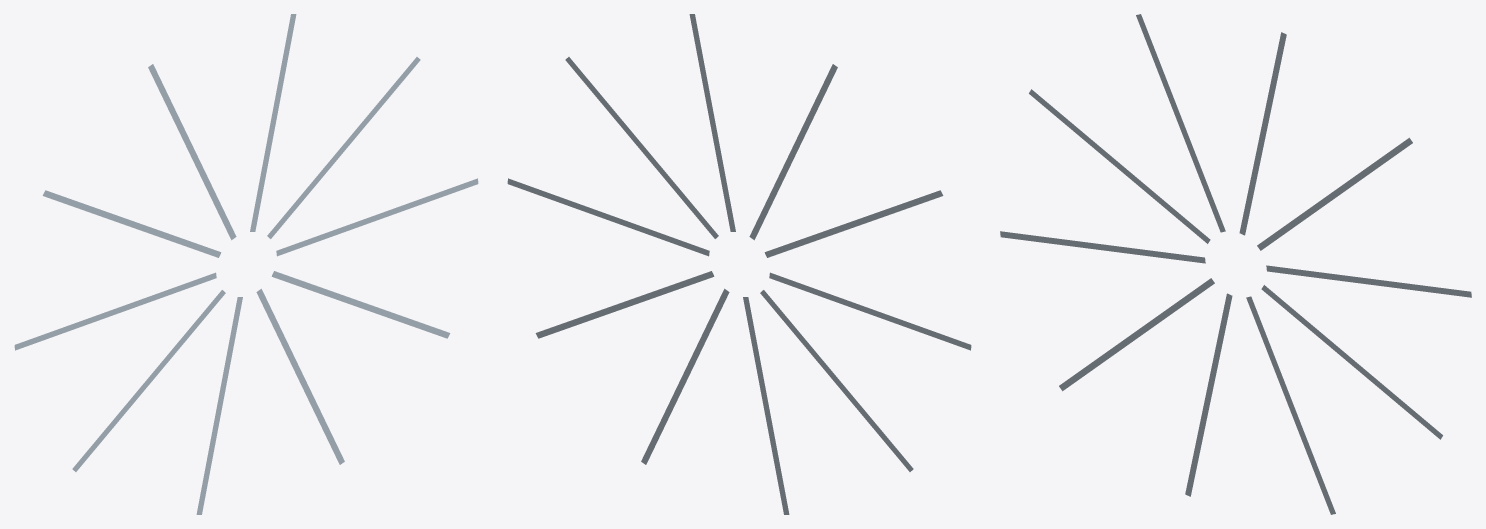
File: Eula_ShatteredLightfallSword_PhysicalRadialLight.fbx
3 renders of one model, left to right at view 1: azimuth 30°, elevation 25°; view 2: azimuth 150°, elevation 25°; view 3: azimuth 330°, elevation 25°, orthographic.
Visible parts, largest first — view 1: PART_PalePhysicalRadialLight_2, PART_PalePhysicalRadialLight_7, PART_PalePhysicalRadialLight_0, PART_PalePhysicalRadialLight_5, PART_PalePhysicalRadialLight_1, PART_PalePhysicalRadialLight_4, PART_PalePhysicalRadialLight_6, PART_PalePhysicalRadialLight_9, PART_PalePhysicalRadialLight_3, PART_PalePhysicalRadialLight_8; view 2: PART_PalePhysicalRadialLight_2, PART_PalePhysicalRadialLight_7, PART_PalePhysicalRadialLight_0, PART_PalePhysicalRadialLight_5, PART_PalePhysicalRadialLight_1, PART_PalePhysicalRadialLight_4, PART_PalePhysicalRadialLight_6, PART_PalePhysicalRadialLight_9, PART_PalePhysicalRadialLight_3, PART_PalePhysicalRadialLight_8; view 3: PART_PalePhysicalRadialLight_3, PART_PalePhysicalRadialLight_8, PART_PalePhysicalRadialLight_0, PART_PalePhysicalRadialLight_5, PART_PalePhysicalRadialLight_2, PART_PalePhysicalRadialLight_7, PART_PalePhysicalRadialLight_4, PART_PalePhysicalRadialLight_9, PART_PalePhysicalRadialLight_1, PART_PalePhysicalRadialLight_6.
Boxes of the visible parts, x1,y1,x2,y2 form: PART_PalePhysicalRadialLight_2: (250,14,296,231); PART_PalePhysicalRadialLight_7: (196,297,242,514); PART_PalePhysicalRadialLight_0: (276,178,478,256); PART_PalePhysicalRadialLight_5: (14,272,216,350); PART_PalePhysicalRadialLight_1: (267,57,420,238); PART_PalePhysicalRadialLight_4: (42,190,221,257); PART_PalePhysicalRadialLight_6: (72,290,225,471); PART_PalePhysicalRadialLight_9: (271,271,450,338); PART_PalePhysicalRadialLight_3: (148,64,236,240); PART_PalePhysicalRadialLight_8: (256,288,344,464); PART_PalePhysicalRadialLight_2: (689,14,735,231); PART_PalePhysicalRadialLight_7: (743,297,789,514); PART_PalePhysicalRadialLight_0: (507,178,709,256); PART_PalePhysicalRadialLight_5: (769,272,971,350); PART_PalePhysicalRadialLight_1: (565,57,718,238); PART_PalePhysicalRadialLight_4: (764,190,943,257); PART_PalePhysicalRadialLight_6: (760,290,913,471); PART_PalePhysicalRadialLight_9: (535,271,714,338); PART_PalePhysicalRadialLight_3: (749,64,837,240); PART_PalePhysicalRadialLight_8: (641,288,729,464); PART_PalePhysicalRadialLight_3: (1136,14,1225,232); PART_PalePhysicalRadialLight_8: (1246,296,1335,514); PART_PalePhysicalRadialLight_0: (1266,265,1471,297); PART_PalePhysicalRadialLight_5: (1000,231,1205,263); PART_PalePhysicalRadialLight_2: (1239,32,1286,235); PART_PalePhysicalRadialLight_7: (1185,293,1232,496); PART_PalePhysicalRadialLight_4: (1029,89,1210,243); PART_PalePhysicalRadialLight_9: (1261,285,1442,439); PART_PalePhysicalRadialLight_1: (1257,137,1412,250); PART_PalePhysicalRadialLight_6: (1059,278,1214,391).
Size of the model in its own units: 199 by 196 by 3.2e-05.
